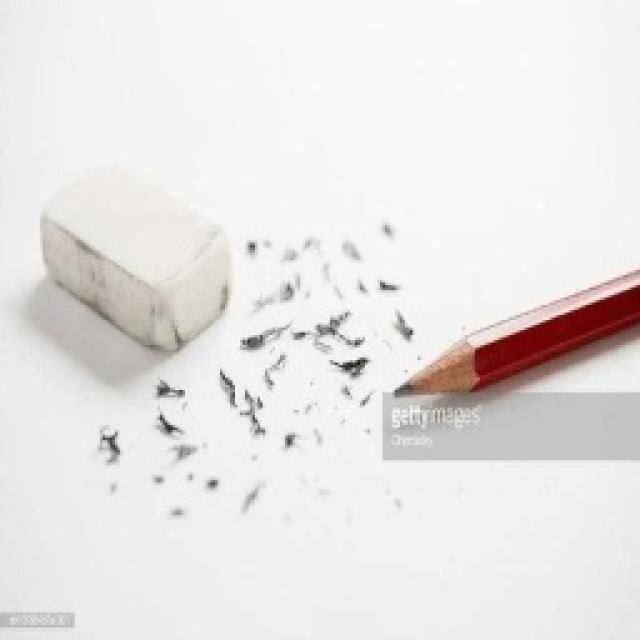Silgi: (32, 162, 235, 354)
